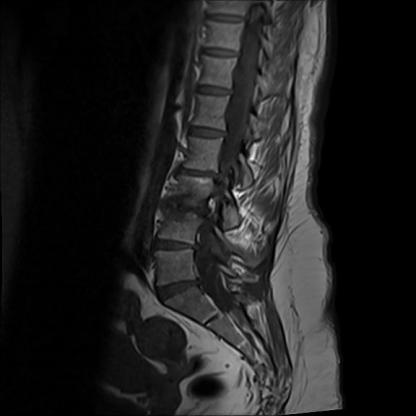Degenerative Disc Diseaserotation: (167, 196, 209, 217), (156, 280, 200, 299), (177, 163, 216, 181)
Disc Herniationrotation: (177, 163, 217, 183), (167, 197, 209, 216), (156, 234, 196, 252)
